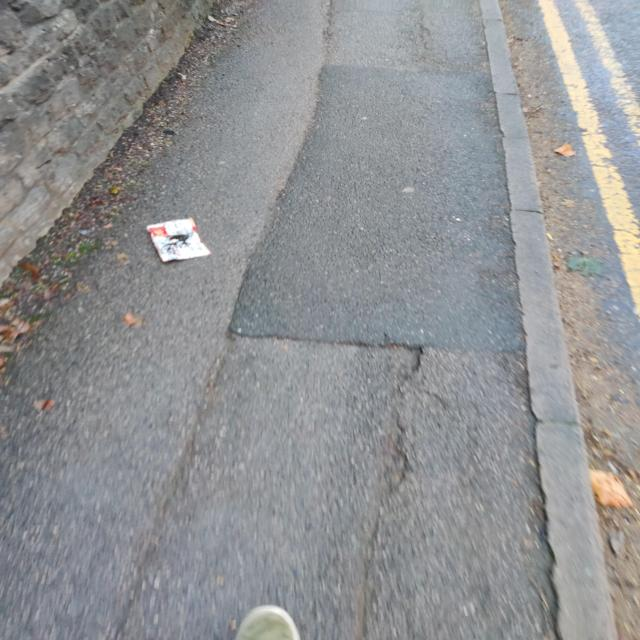litter: (146, 217, 214, 263)
